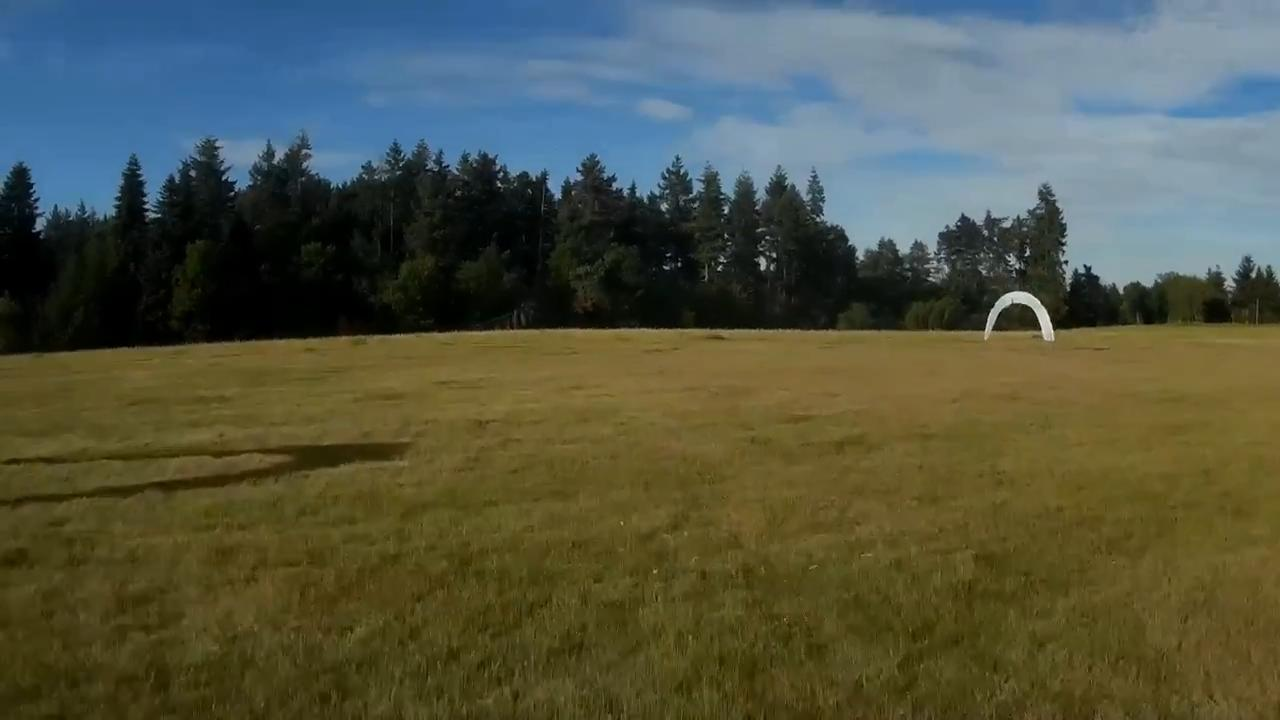gate: (981, 291, 1049, 342)
